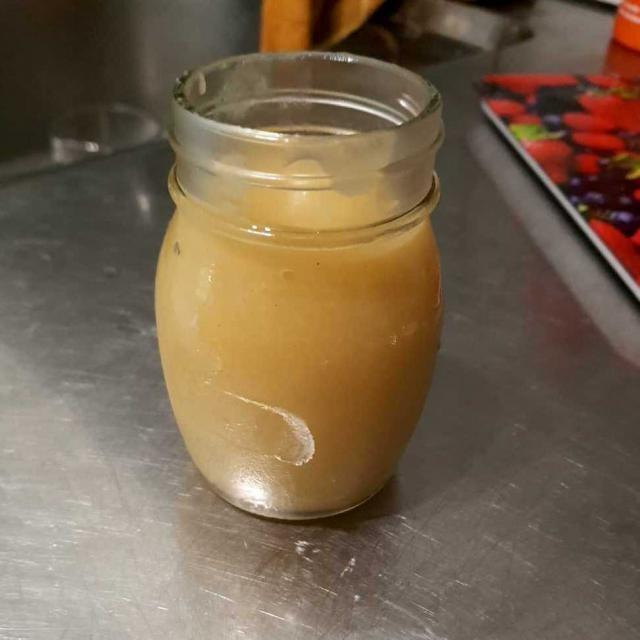applesauce: (165, 93, 442, 512)
